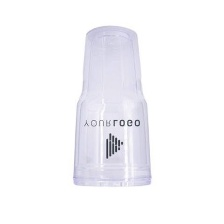glass: (66, 20, 152, 193)
